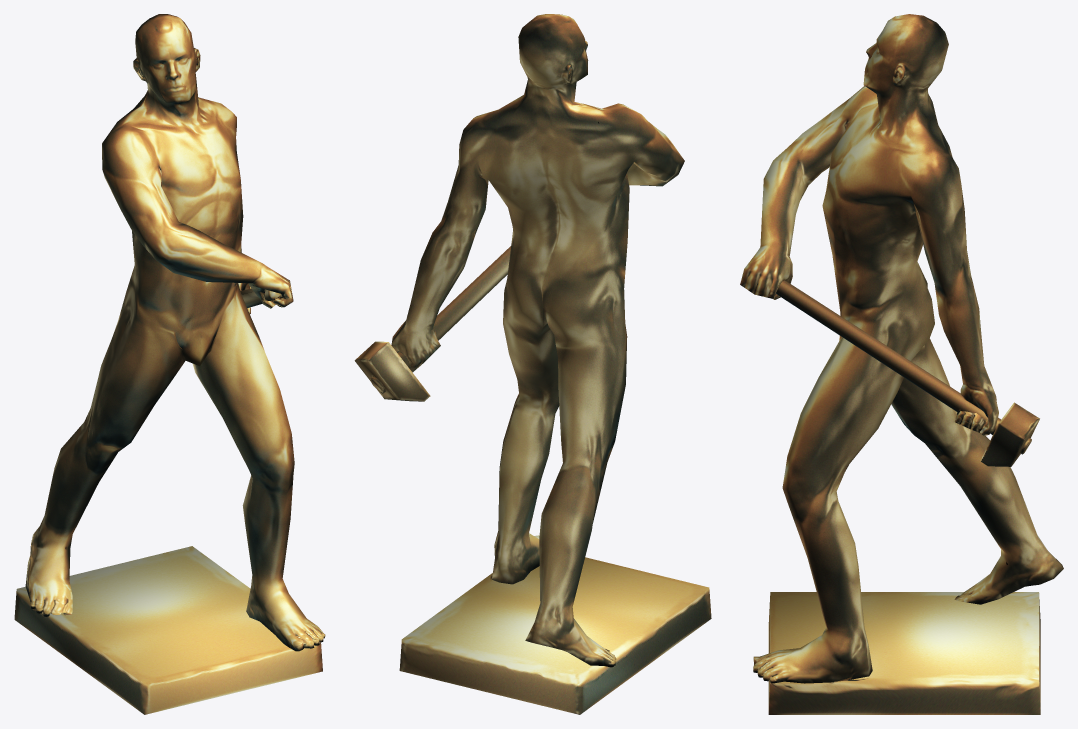
The model's file is statue.FBX.
3 renders of one model, left to right at view 1: azimuth 30°, elevation 25°; view 2: azimuth 150°, elevation 25°; view 3: azimuth 270°, elevation 25°, orthographic. The views are drawn at different scales.
Parts seen in each view (by area): view 1: a; view 2: a; view 3: a.
Boxes of the visible parts, x1,y1,x2,y2 form: a: (14,14,325,714); a: (354,14,711,714); a: (740,14,1063,714).
Size of the model in its own units: 456 by 1136 by 511.
Materials: 1 (1 with a texture image).
